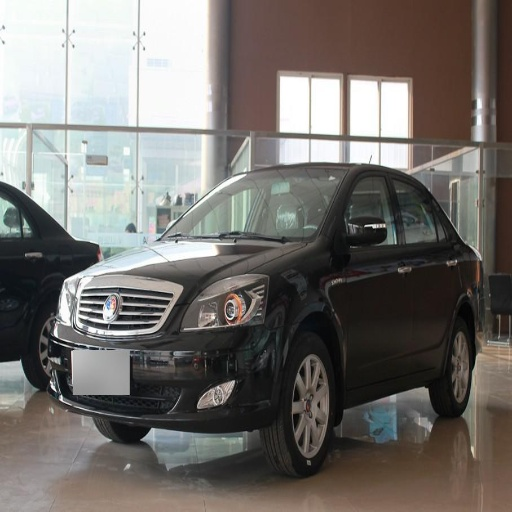front_bumper: (37, 277, 280, 453)
front_glass: (163, 167, 344, 241)
front_left_door: (335, 168, 414, 385)
